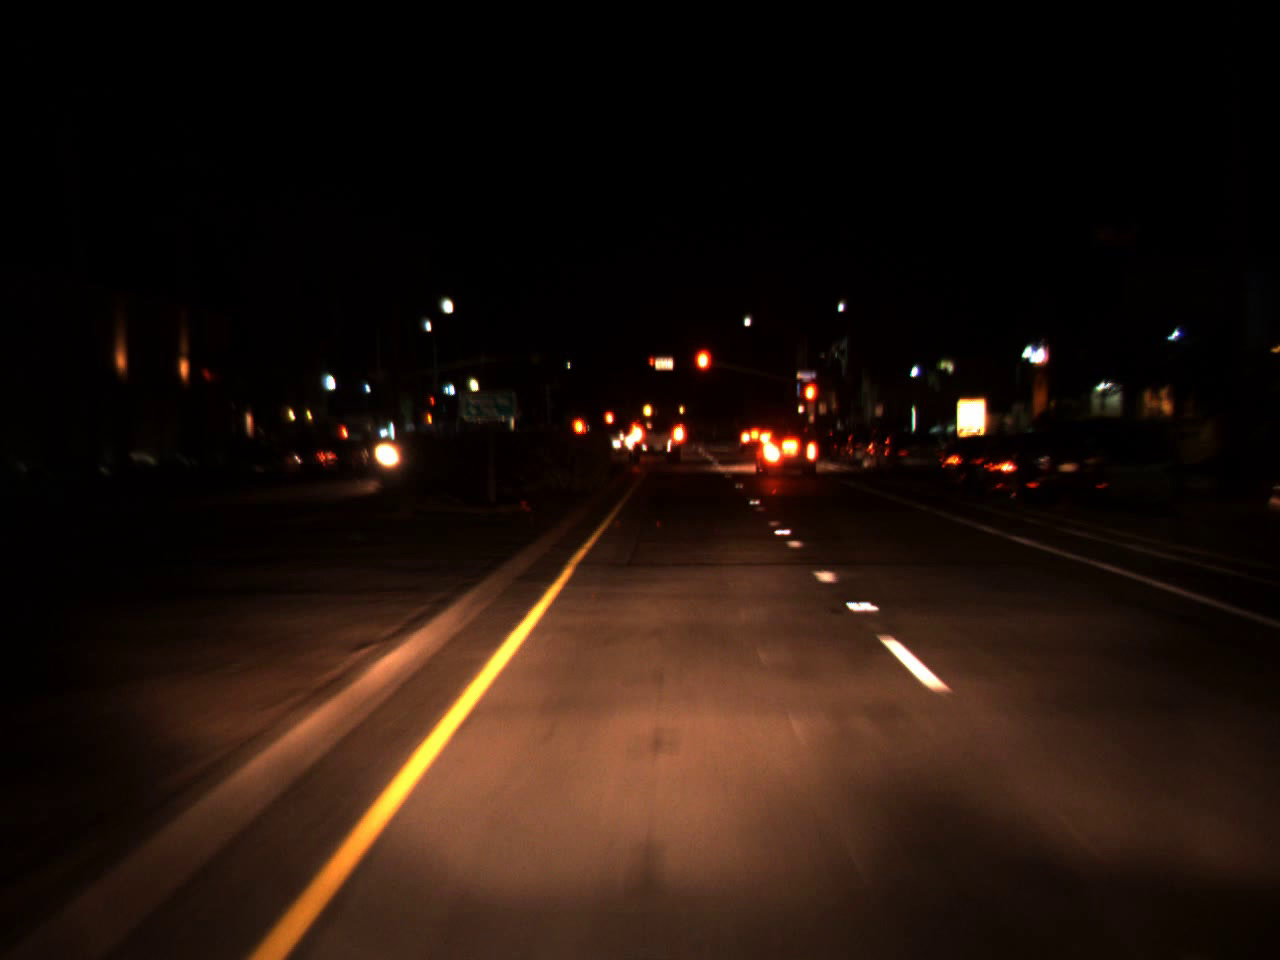stop: (692, 346, 713, 394), (801, 380, 819, 423), (429, 396, 435, 412), (649, 357, 655, 370)
